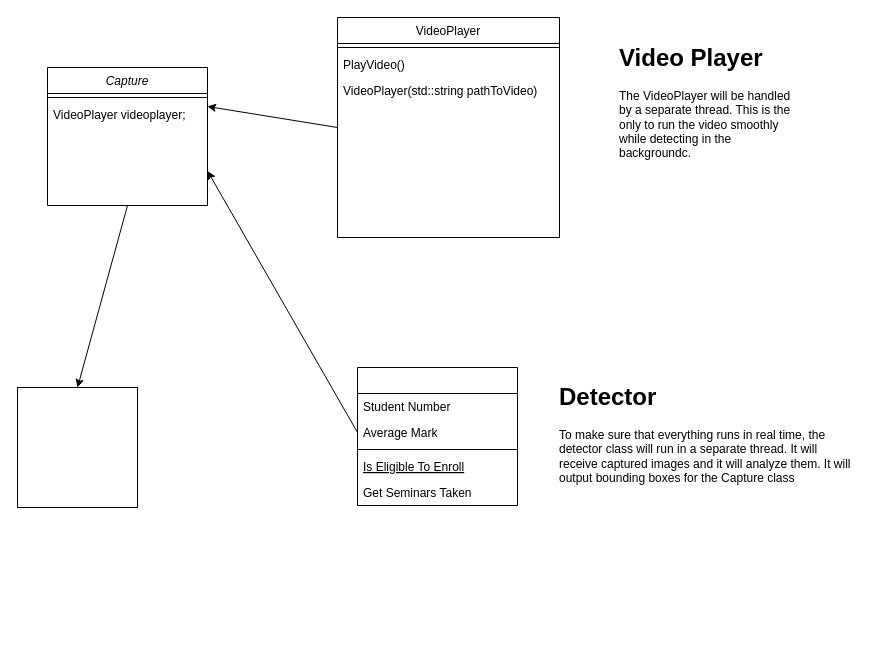
Some shapes in this 875 by 648 pixel diagram are drawn without their labels. The shapes that lost their labels are listed below. From the top down, each one's box as (x1, y1, x2, y2) in pixels, then its label:
(16, 386, 138, 508): MAIN
(356, 366, 518, 506): Detector
